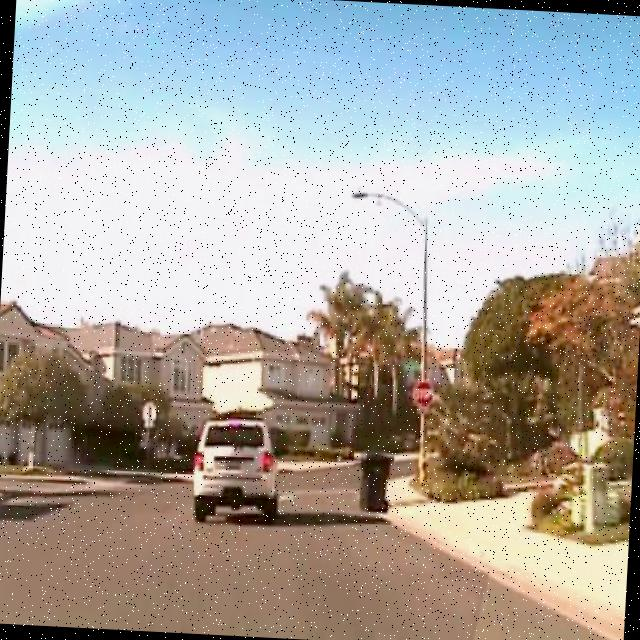Stop: (412, 375, 438, 413)
